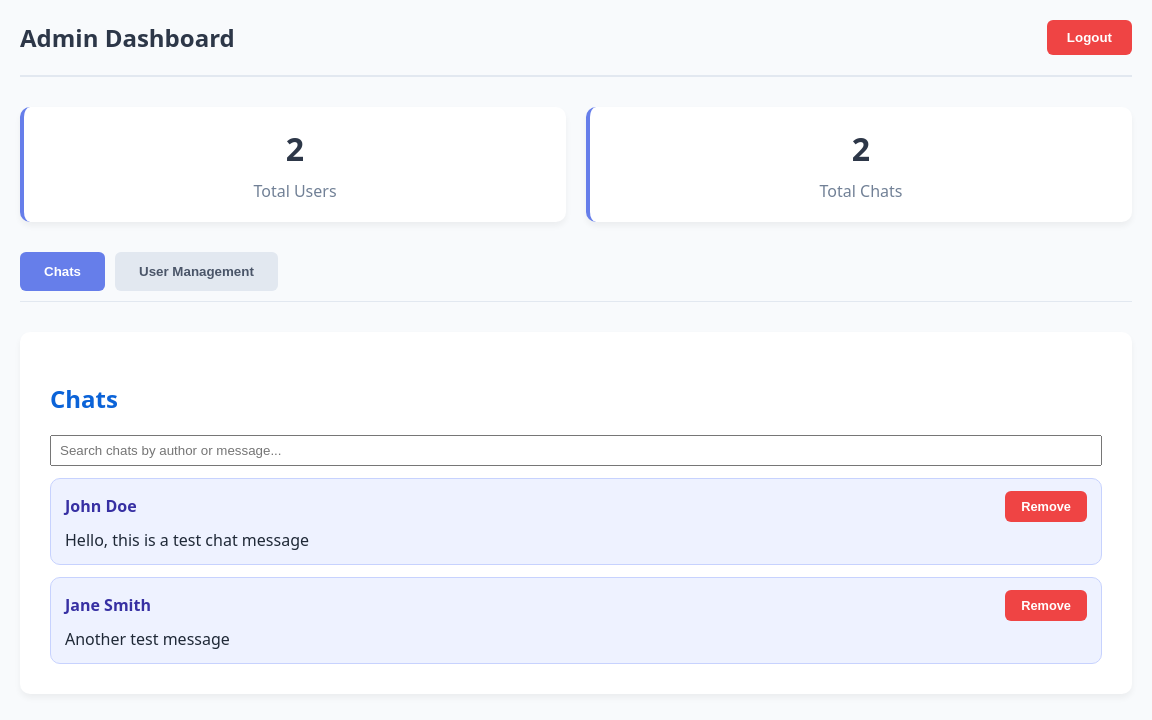
it: AdminDashboard › UI Tests › should switch between tabs and show appropriate content
The width and height of the screenshot is (1152, 720).
Check: the text "Hello, this is a test chat message" is shown, box [65,529,309,551]
Switch to users tab
Click the button "User Management": {"x": 196, "y": 272} [115,252,278,291]
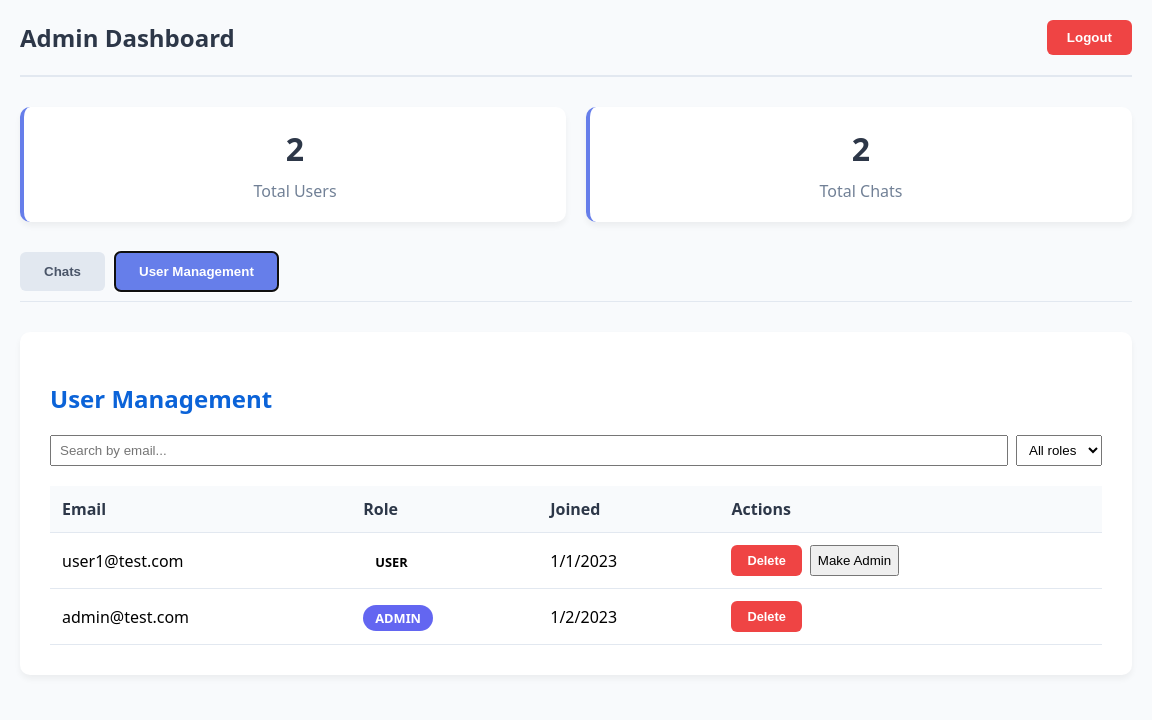
Check: the text "user1@test.com" is shown, box [50,532,351,589]
Check: the text "admin@test.com" is shown, box [50,589,351,645]
